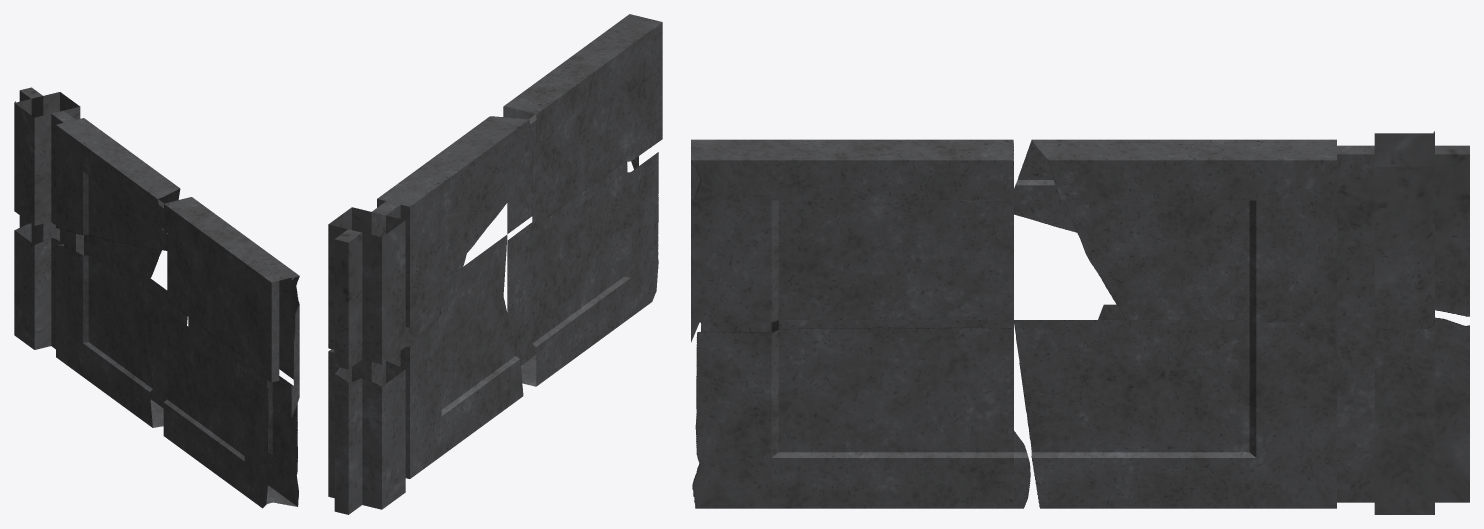
File: wall_base.fbx
The picture shows the model from 3 angles, left to right: view 1: azimuth 30°, elevation 25°; view 2: azimuth 150°, elevation 25°; view 3: azimuth 270°, elevation 25°; orthographic projection. The views are drawn at different scales.
Parts seen in each view (by area): view 1: wall_base; view 2: wall_base; view 3: wall_base.
Part boxes in pixels (x1,y1,x2,y2): wall_base: [14, 87, 299, 508]; wall_base: [328, 14, 662, 514]; wall_base: [691, 131, 1469, 514].
Size of the model in its own units: 60.61 by 410 by 597.
